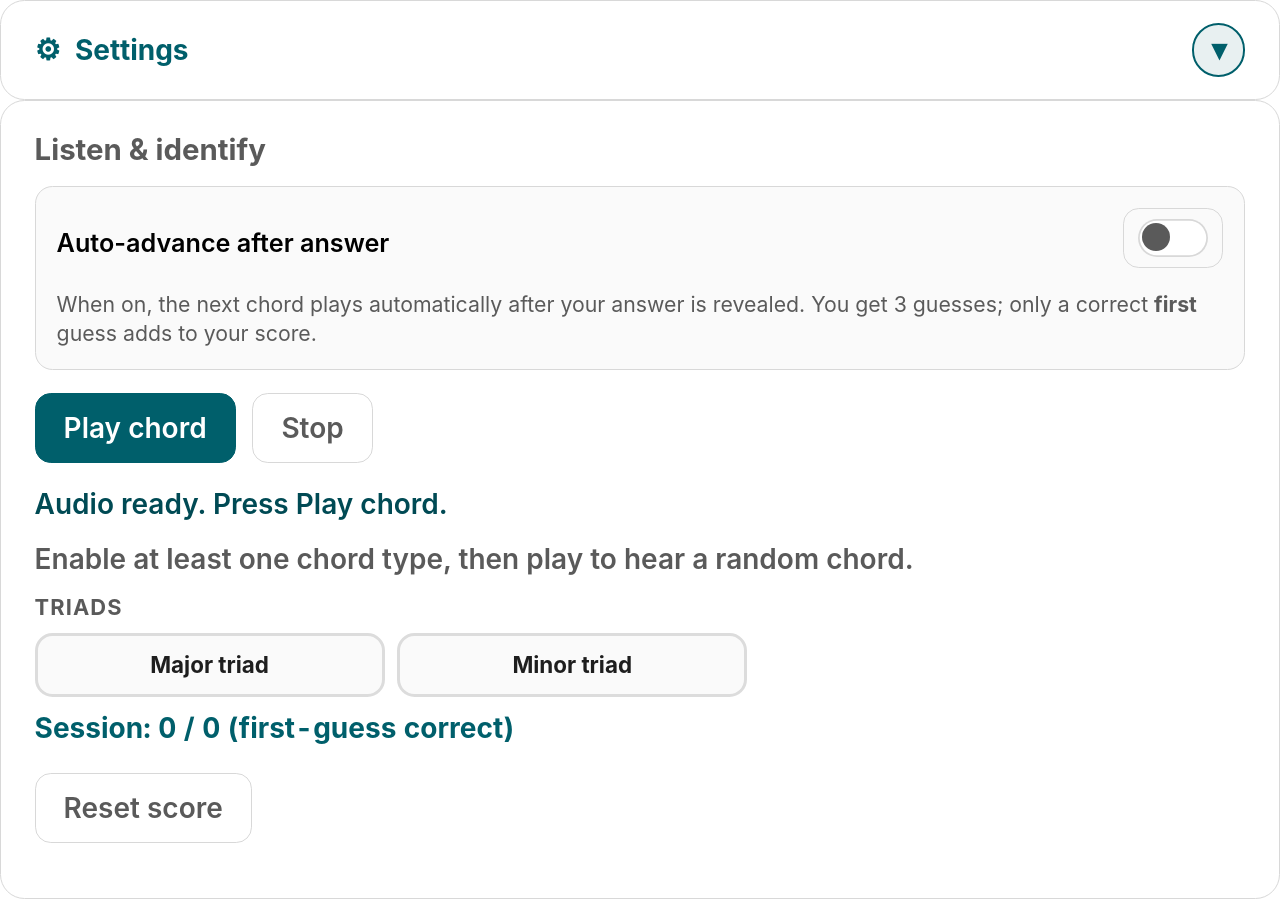
Test: ChordTopic — first-guess scoring (docs/05-topics/03 §6) › counts a wrong-then-right answer as total+1, correct+0
Click the button "Play chord": point(135, 428) top-left (35, 393), bottom-right (236, 463)
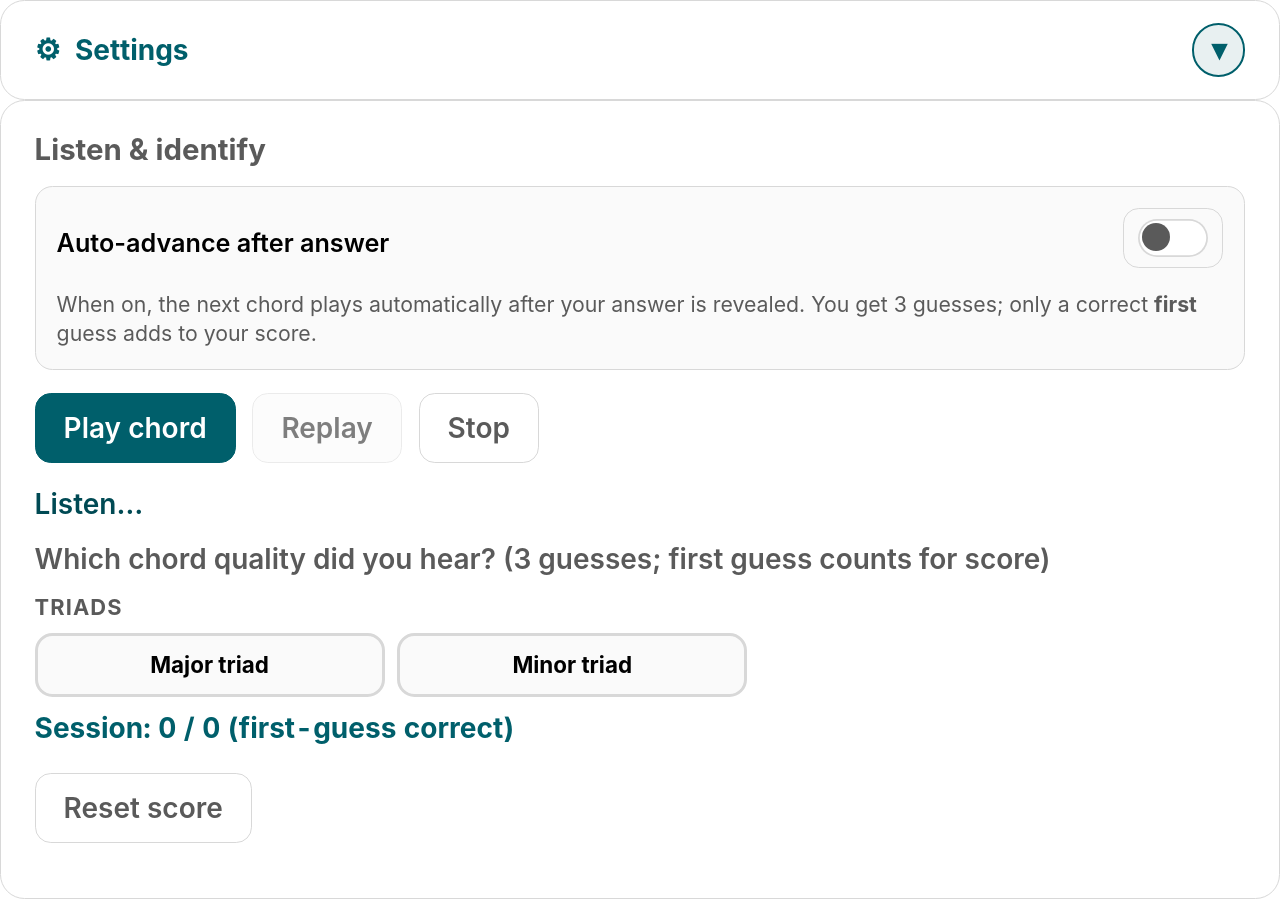
Click the button "Minor triad": point(572, 665) top-left (397, 632), bottom-right (747, 697)
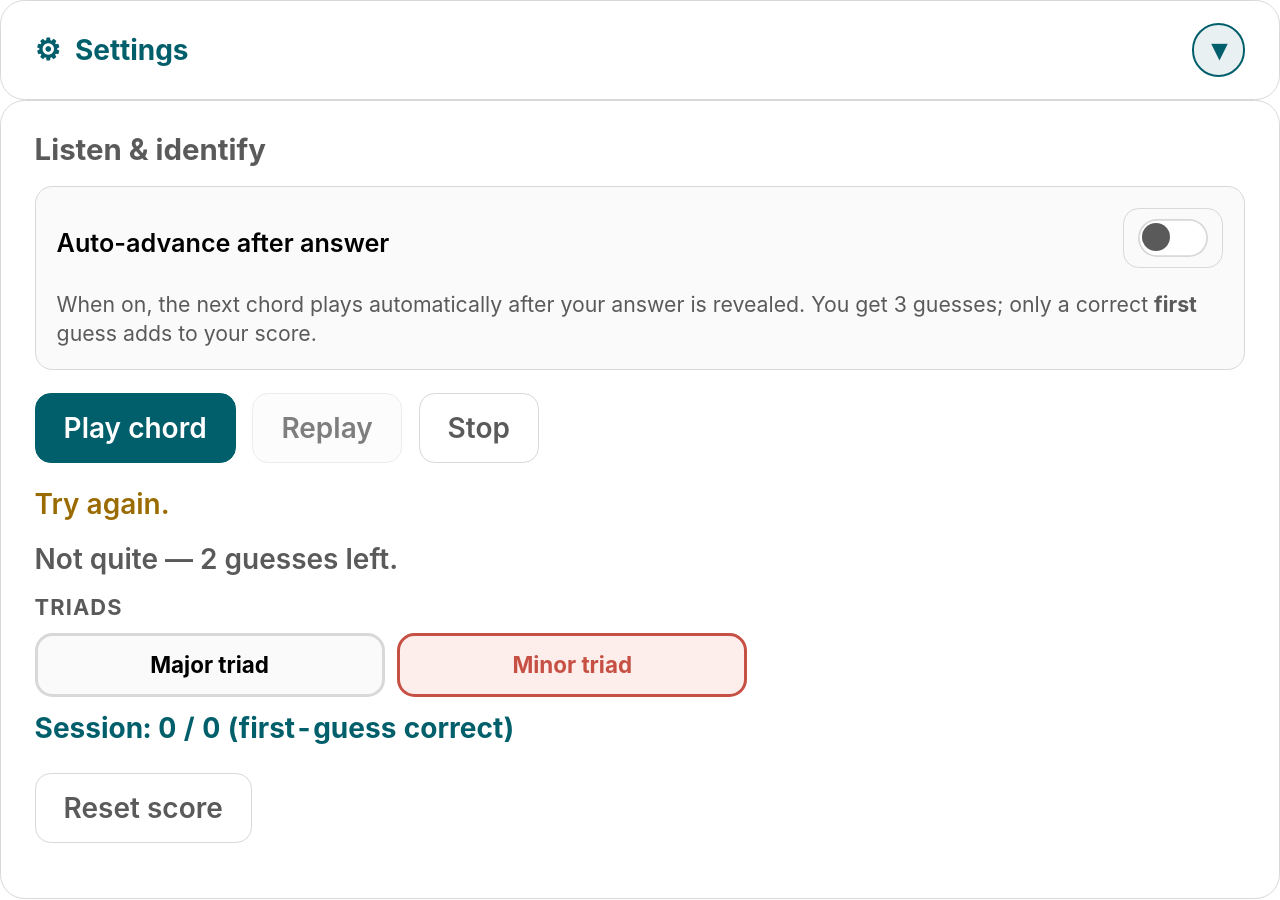
Click the button "Major triad": point(210, 665) top-left (35, 632), bottom-right (385, 697)
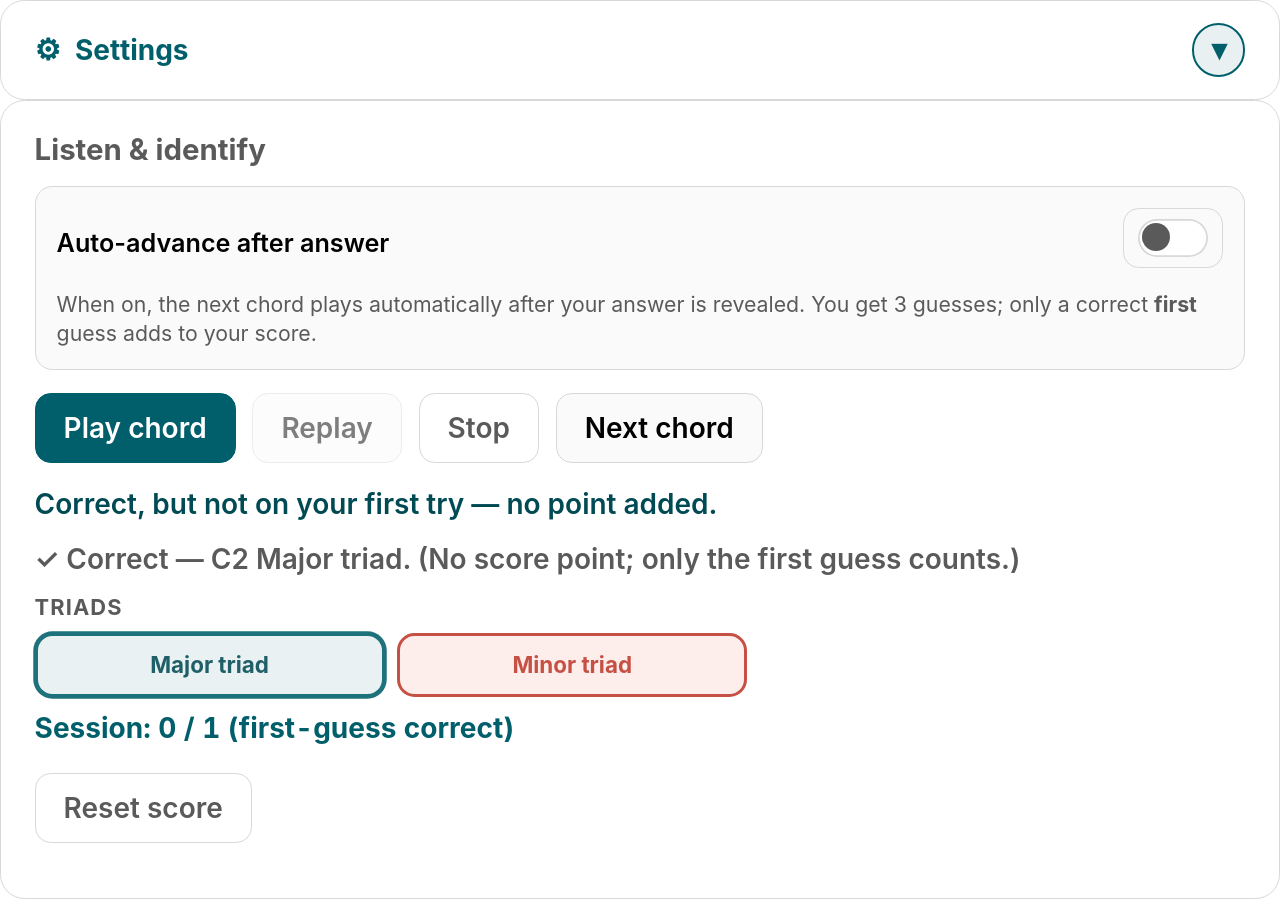
Now the text "Session: 0 / 1 (first-guess correct)" is shown, box top-left (35, 711), bottom-right (514, 745)
